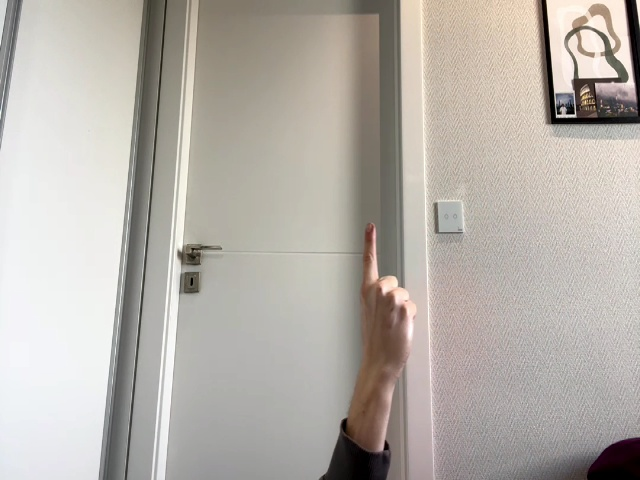D: (359, 222, 417, 386)
